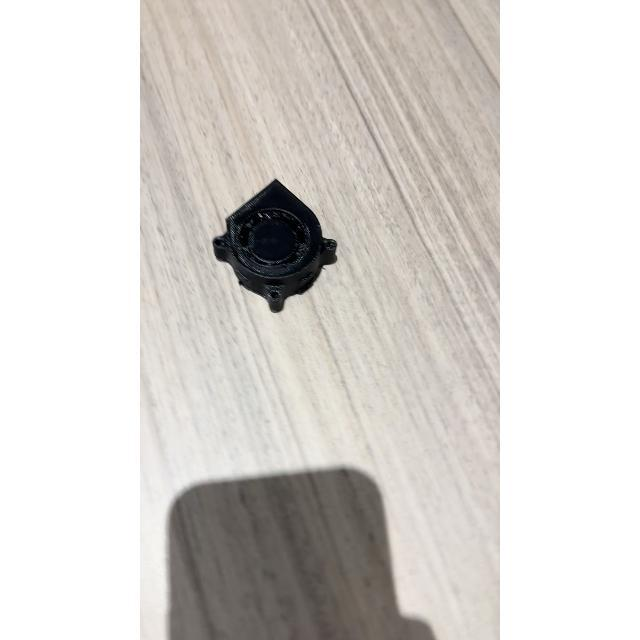Pieza3: (202, 166, 356, 322)
